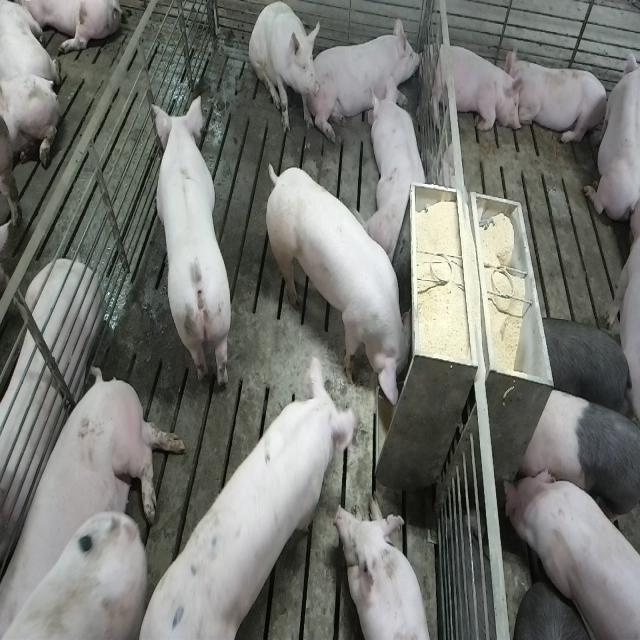Feeding: (270, 162, 420, 413)
Lateral_lying: (6, 365, 184, 636), (0, 259, 102, 582)
Sitting: (249, 2, 320, 138)
Standing: (137, 383, 360, 635), (151, 100, 233, 398), (502, 465, 638, 640), (517, 383, 638, 543), (536, 314, 636, 424)
Sternal_lying: (337, 499, 437, 640), (315, 12, 424, 138), (368, 78, 430, 258), (584, 40, 638, 224), (424, 37, 522, 138), (509, 52, 610, 149)
